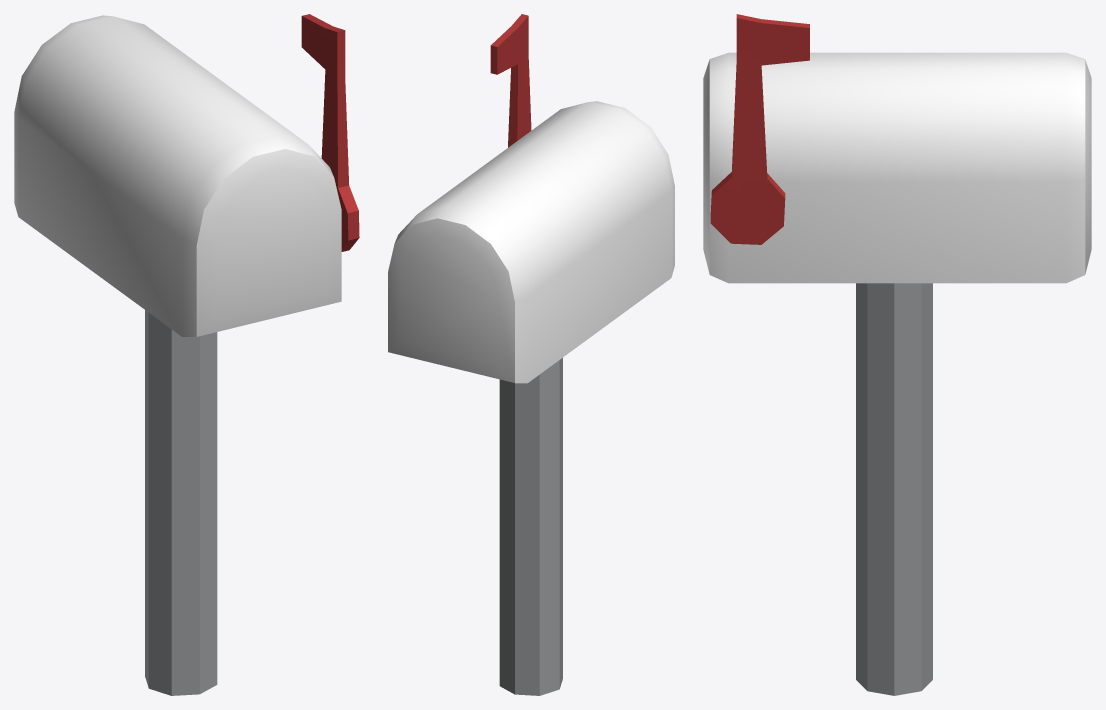
Rendered from SM_mailbox.fbx.
3 views of the same model, side by side, from view 1: azimuth 30°, elevation 25°; view 2: azimuth 150°, elevation 25°; view 3: azimuth 270°, elevation 25° (orthographic). The views are drawn at different scales.
Parts seen in each view (by area): view 1: Cylinder005; view 2: Cylinder005; view 3: Cylinder005.
Boxes of the visible parts, x1,y1,x2,y2 form: Cylinder005: (14,14,359,695); Cylinder005: (388,14,674,695); Cylinder005: (703,14,1091,695).
Bounding box in the file's own units: 13.27 × 51.58 × 25.72.
